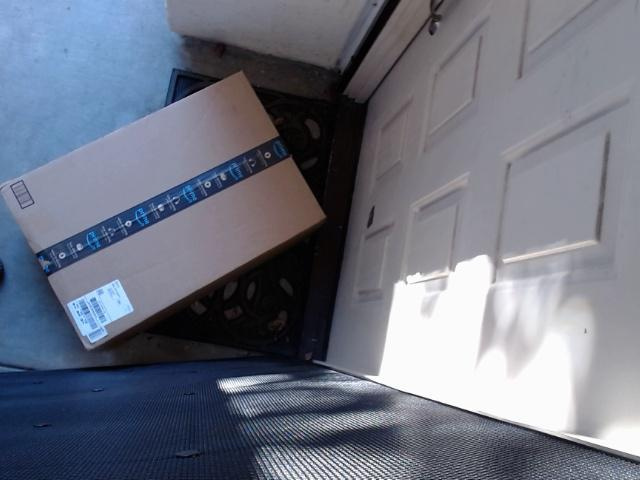box: (0, 76, 328, 356)
